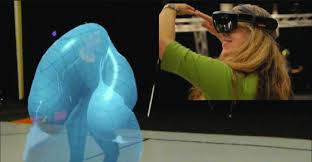hololens: (210, 7, 280, 37)
